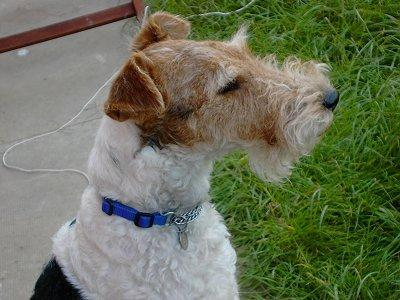wire-haired_fox_terrier: (25, 7, 342, 299)
